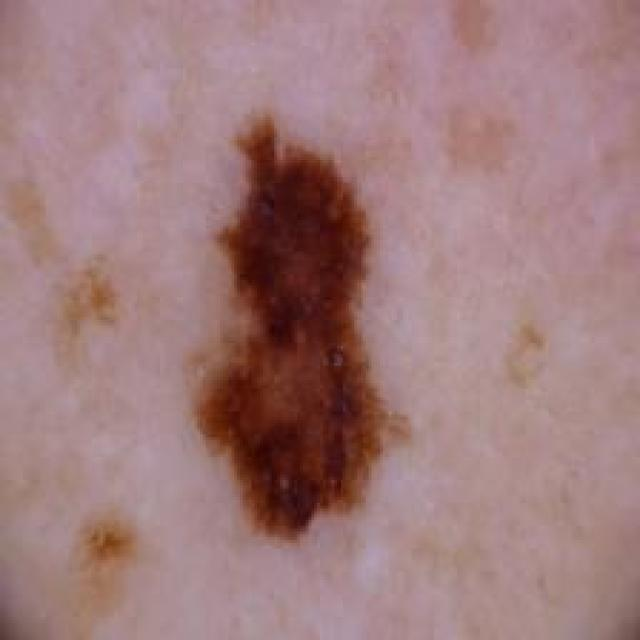Cancer: (186, 108, 411, 543)
